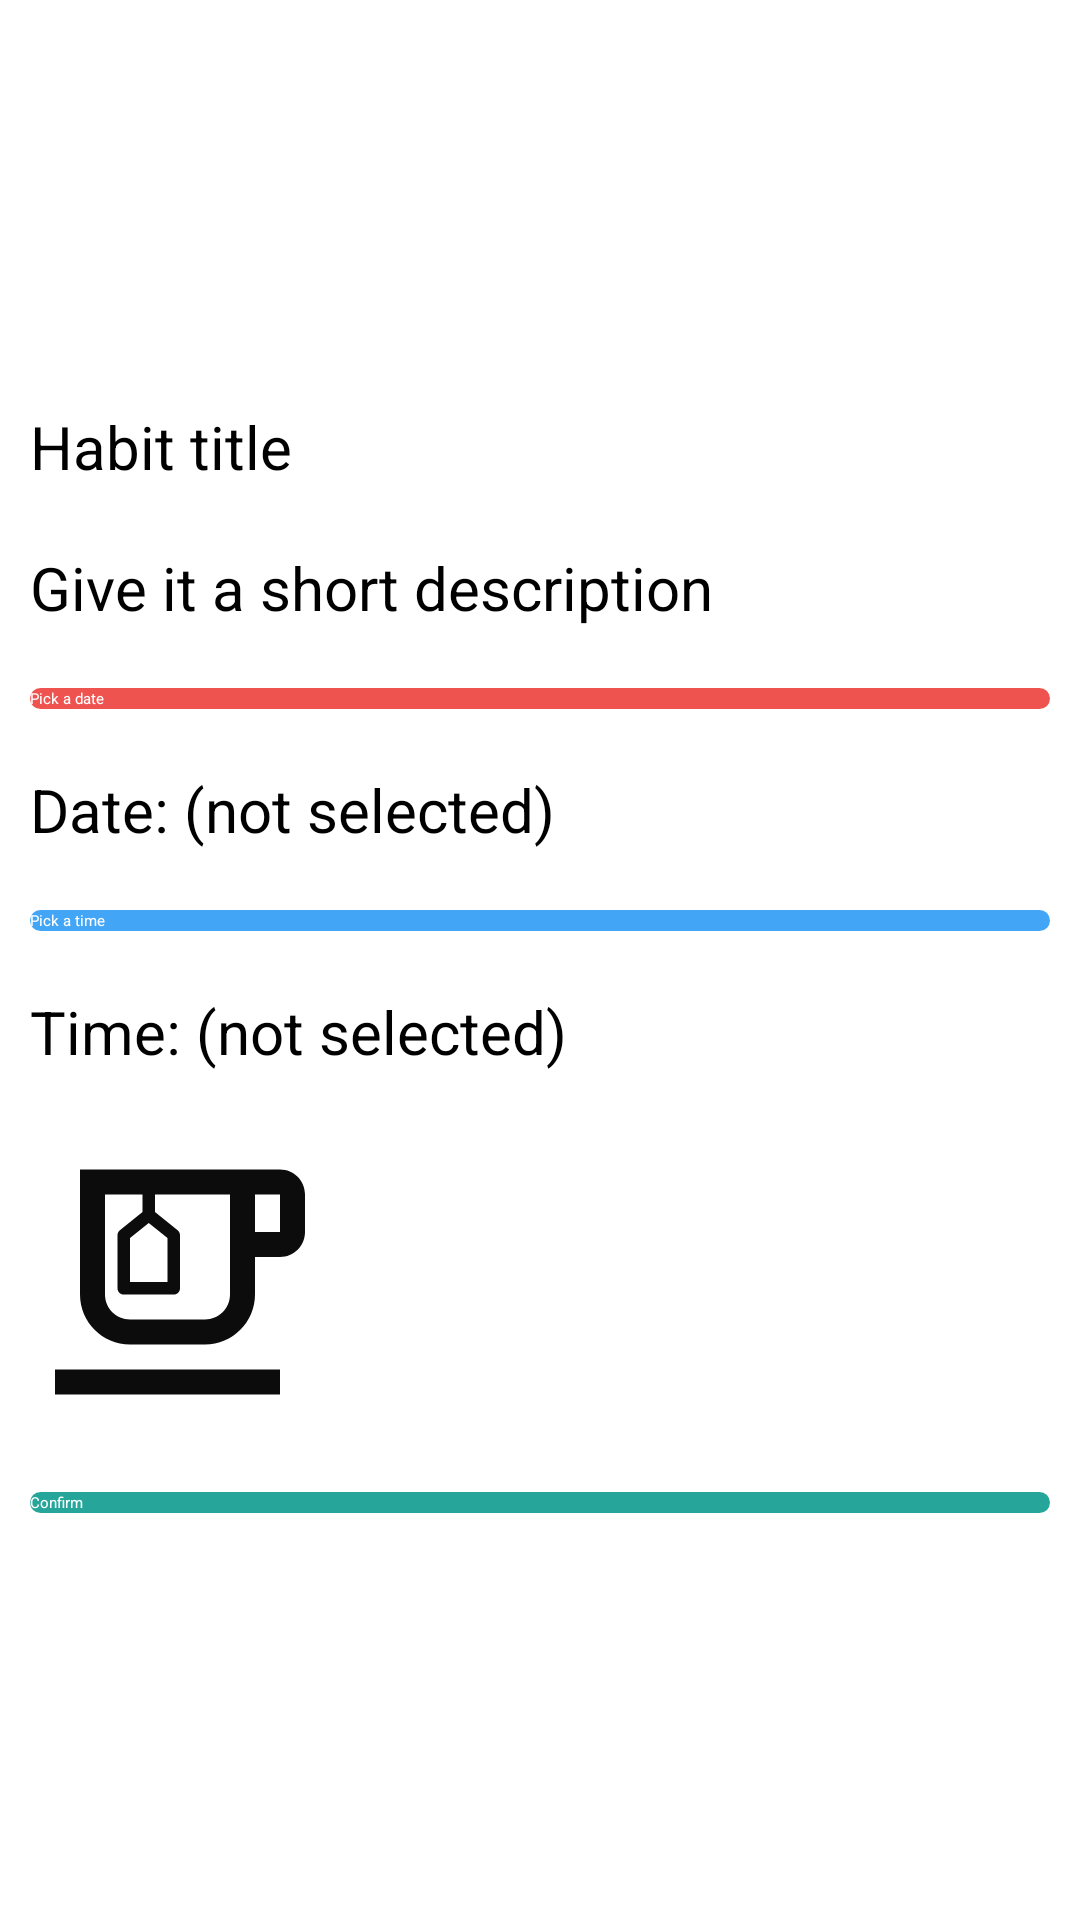

Screen size 1080px x 1920px. Icon name, then its box in pixels as bbox=(x1, y1, x2, y2):
tea: bbox=(55, 1169, 305, 1395)
